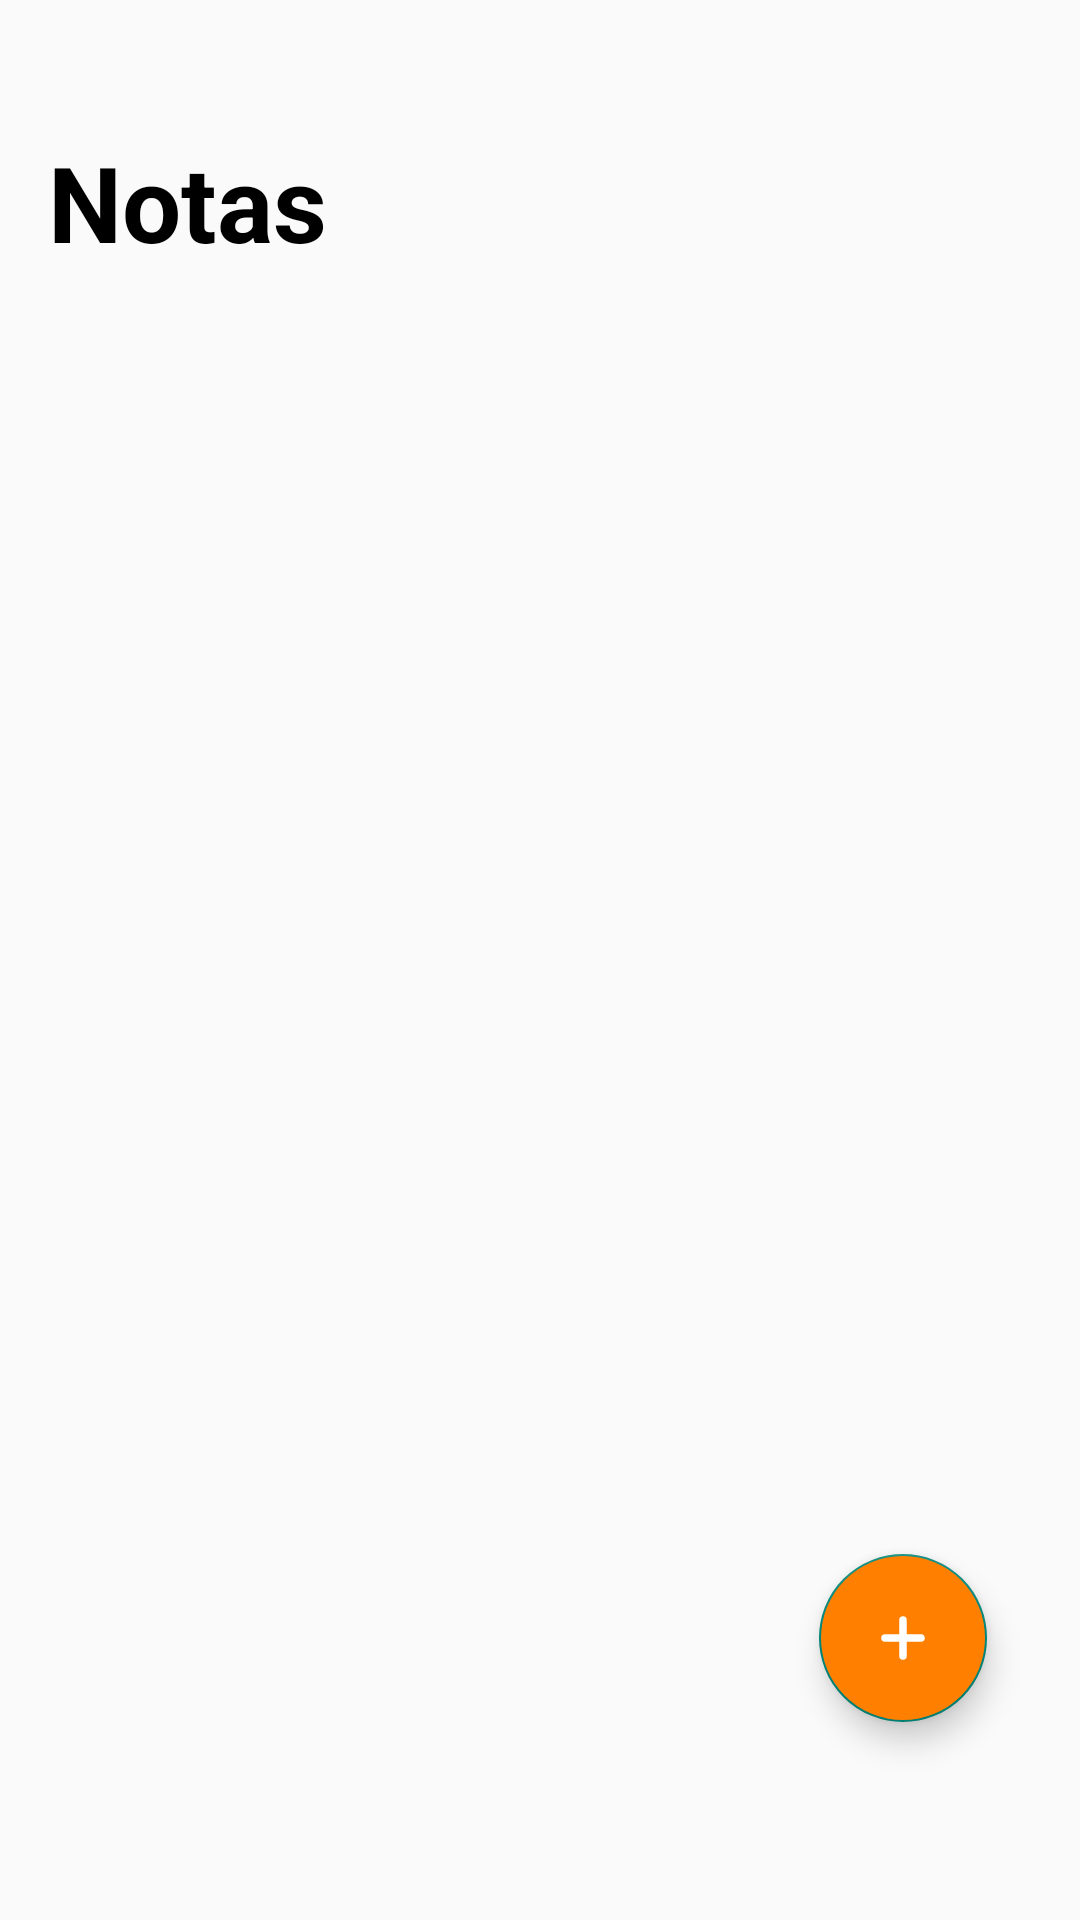

Icon bounding boxes for this 1080*1920 phone screenshot, format bbox=[x1, y1, x2, y2]:
Agregar nota: bbox=[819, 1554, 987, 1722]
